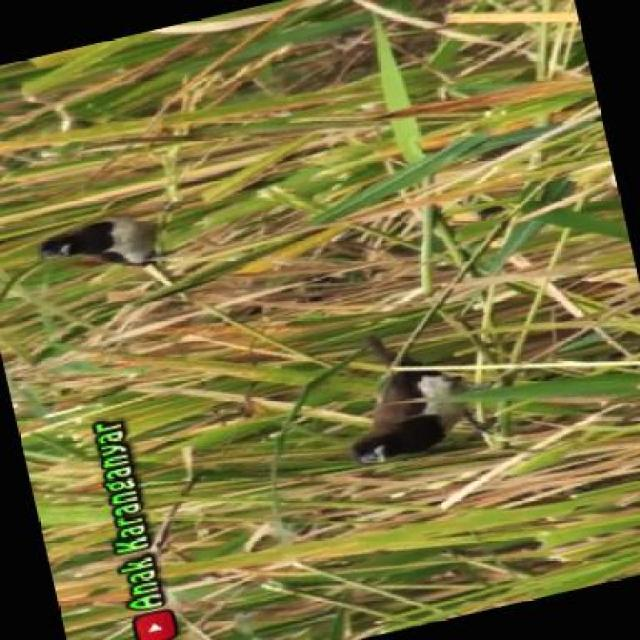Bird: (350, 334, 469, 471), (39, 217, 161, 270)
